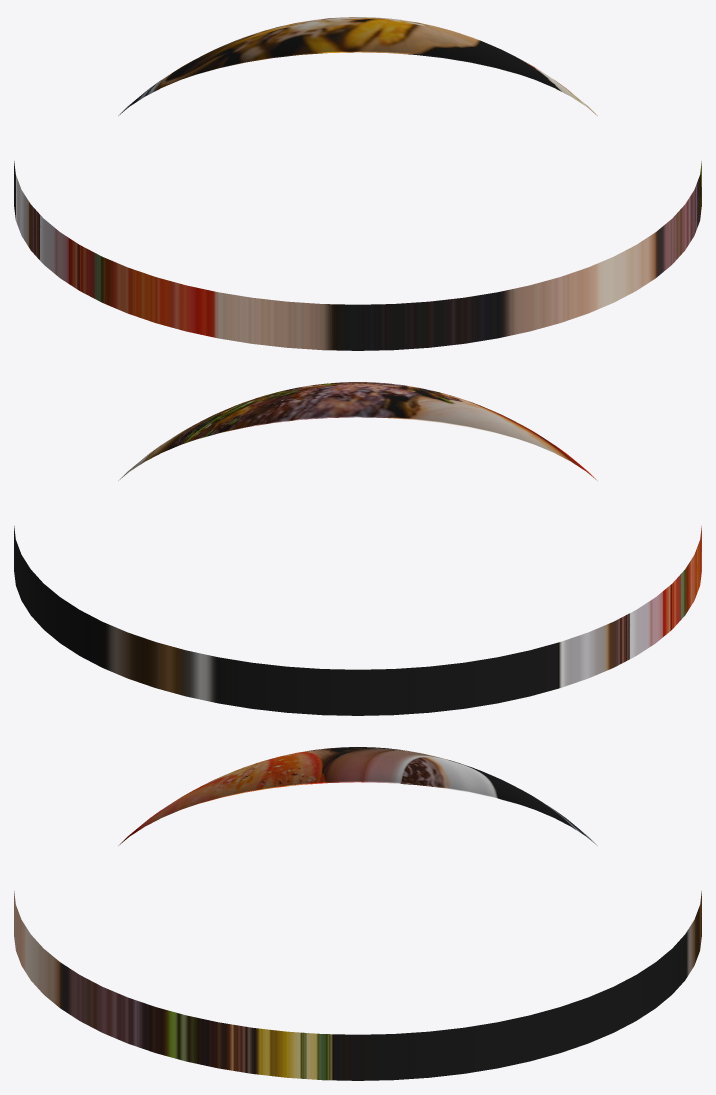
File: continental.glb
The picture shows the model from 3 angles, top to bottom: view 1: azimuth 30°, elevation 25°; view 2: azimuth 150°, elevation 25°; view 3: azimuth 270°, elevation 25°; orthographic projection.
Visible parts, largest first — view 1: continental; view 2: continental; view 3: continental.
Part boxes in pixels (x1=…): continental: x1=14, y1=17, x2=701, y2=350; continental: x1=14, y1=382, x2=701, y2=715; continental: x1=14, y1=747, x2=701, y2=1080.
Bounding box in the file's own units: 0.27 × 0.069 × 0.27.
Materials: 1 (1 with a texture image).
